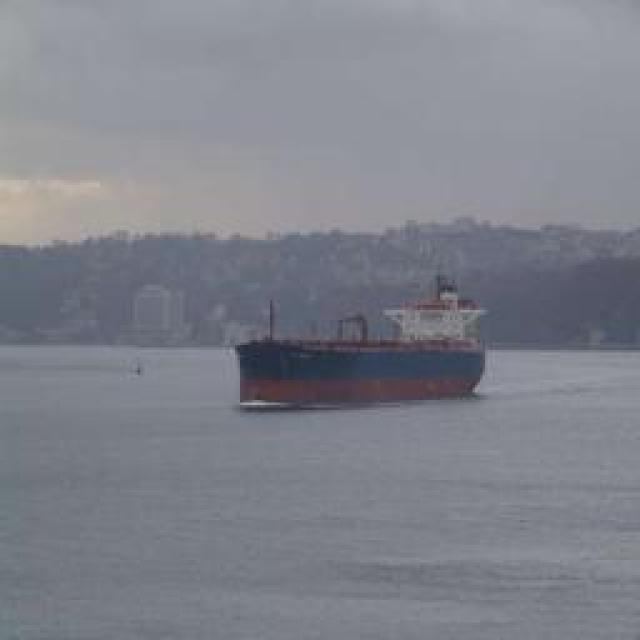CIV_Ship: (234, 278, 486, 404)
